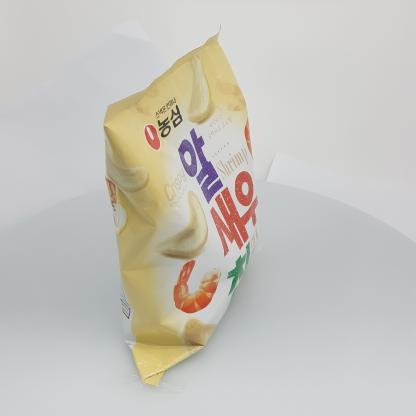Plastic Packaging: (88, 17, 278, 391)
